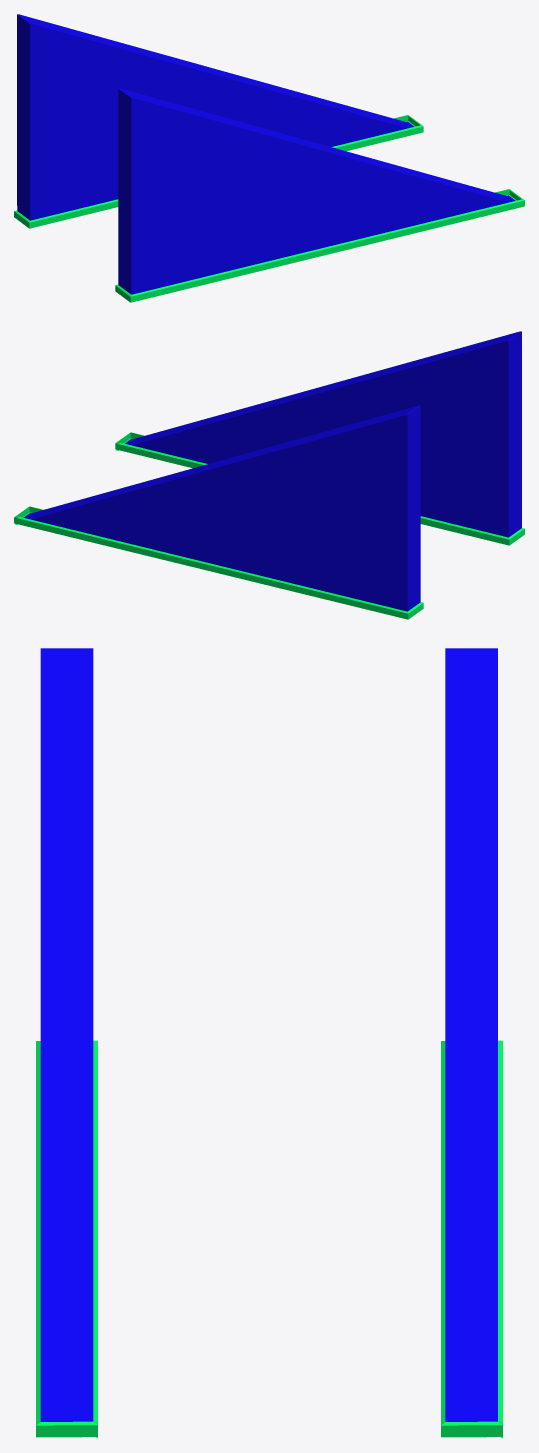
Rendered from stairs_bottom.fbx.
The picture shows the model from 3 angles, top to bottom: view 1: azimuth 30°, elevation 25°; view 2: azimuth 150°, elevation 25°; view 3: azimuth 270°, elevation 25°; orthographic projection. The views are drawn at different scales.
Visible parts, largest first — view 1: Wall009, Wall010; view 2: Wall010, Wall009; view 3: Wall009, Wall010.
Part boxes in pixels (x1,y1,x2,y2): Wall009: (115,88,524,302); Wall010: (14,14,423,228); Wall010: (14,405,423,619); Wall009: (115,331,524,545); Wall009: (36,648,97,1438); Wall010: (441,648,502,1438).
Bounding box in the file's own units: 204 × 101 × 104.
